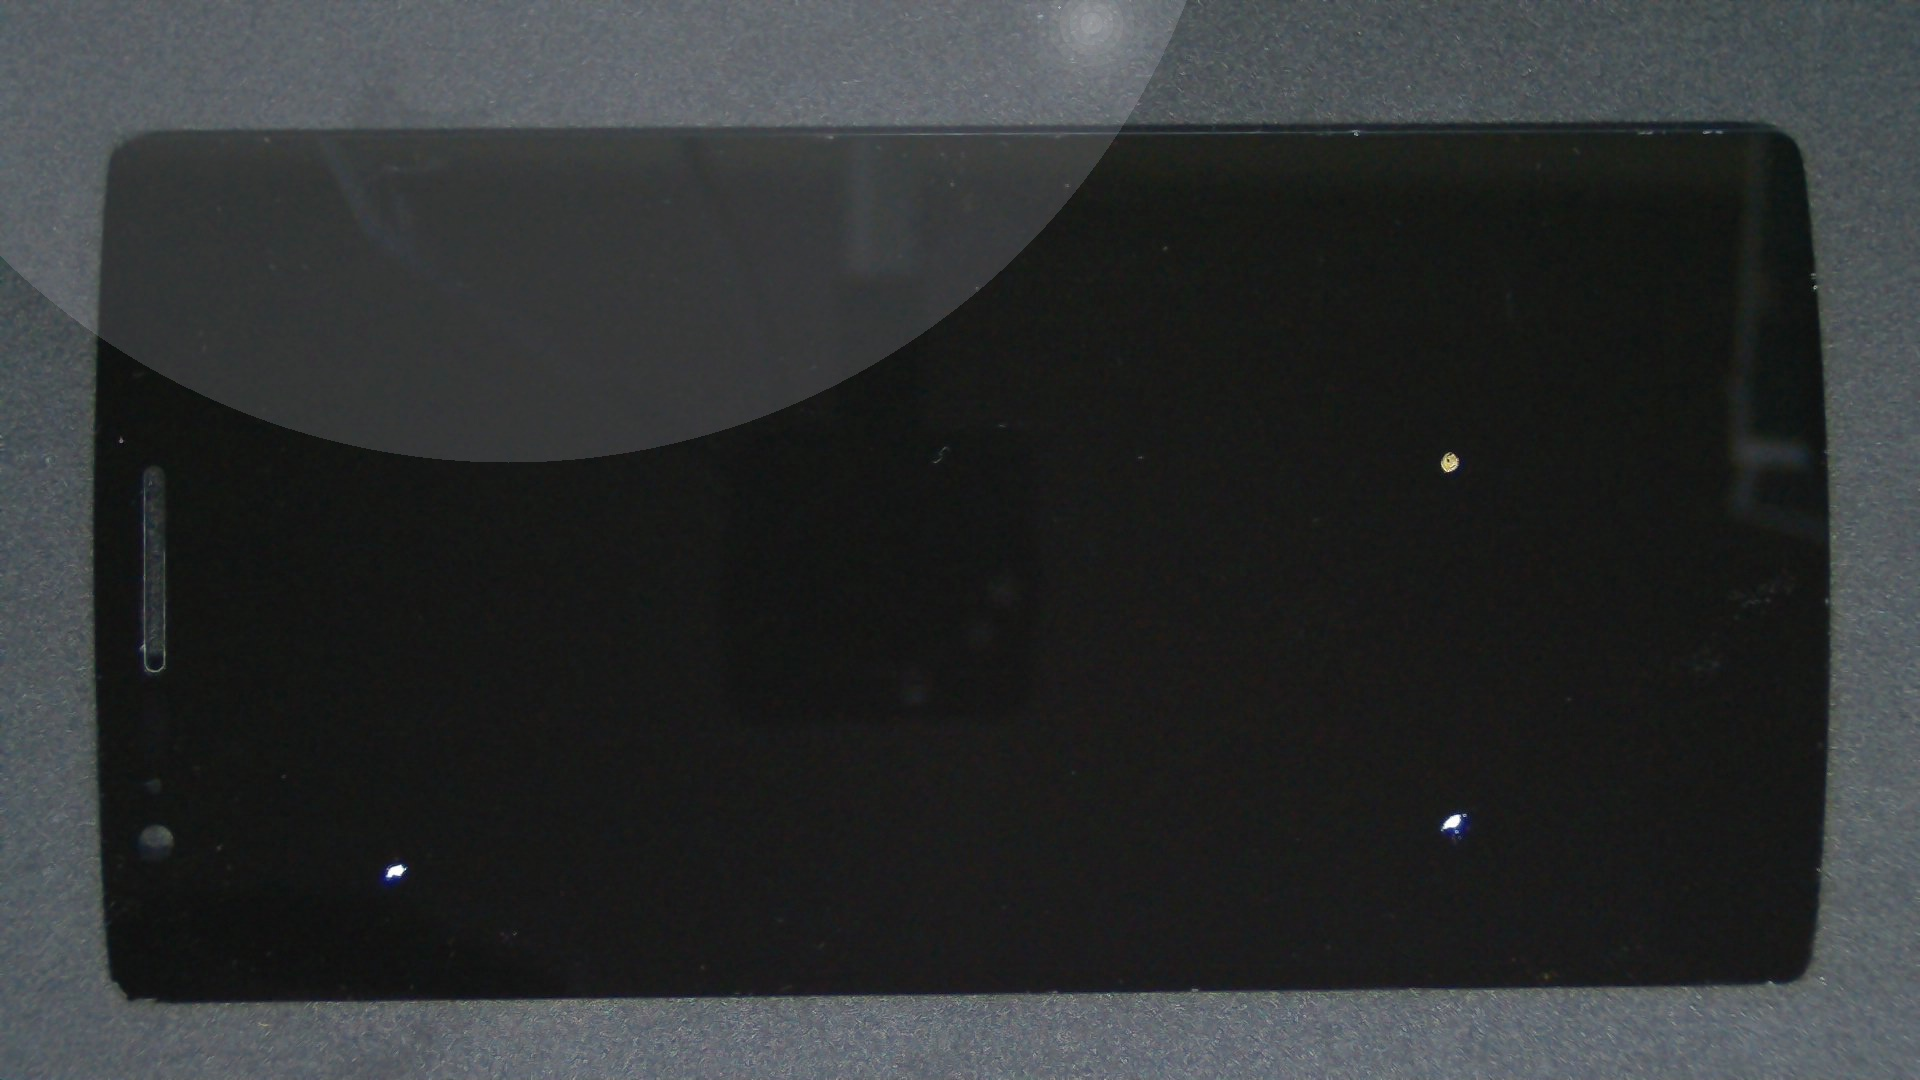oil: (731, 406, 1920, 1080), (727, 224, 1920, 675), (200, 429, 600, 1080)
